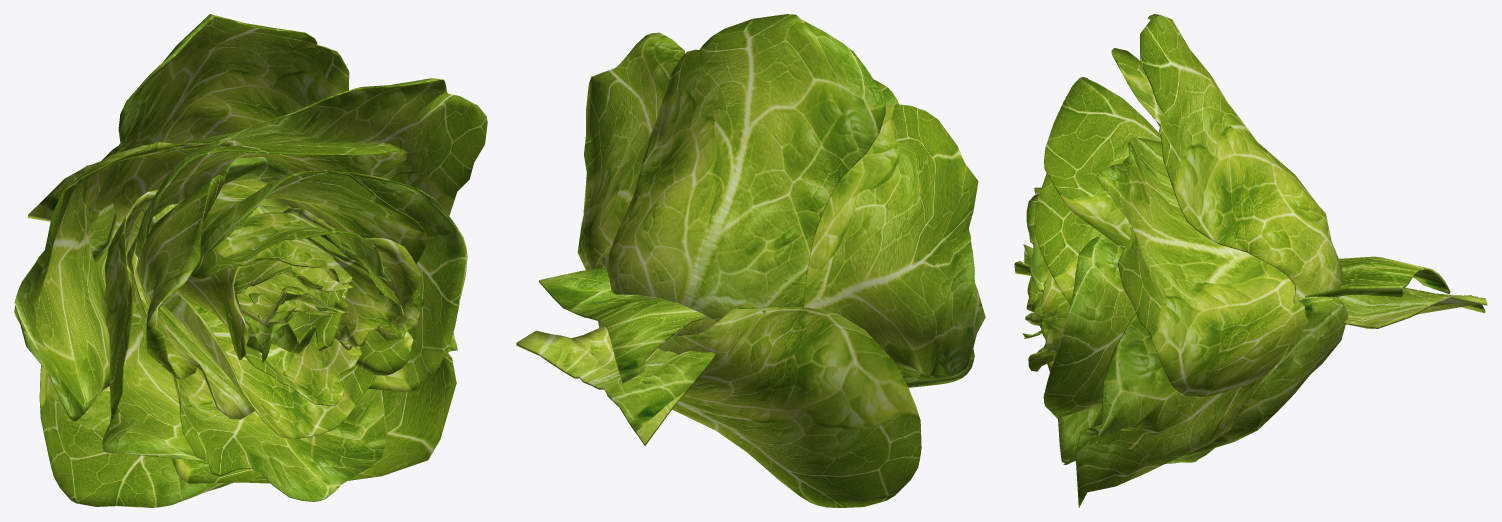
The model's file is lattuga4.obj.
3 renders of one model, left to right at view 1: azimuth 30°, elevation 25°; view 2: azimuth 150°, elevation 25°; view 3: azimuth 270°, elevation 25°, orthographic. The views are drawn at different scales.
Visible parts, largest first — view 1: plant_Plane.088; view 2: plant_Plane.088; view 3: plant_Plane.088.
Boxes of the visible parts, bbox=[...] form: plant_Plane.088: bbox=[14, 14, 487, 507]; plant_Plane.088: bbox=[516, 14, 985, 507]; plant_Plane.088: bbox=[1014, 14, 1487, 507].
Bounding box in the file's own units: 0.3584 × 0.3828 × 0.3576.
